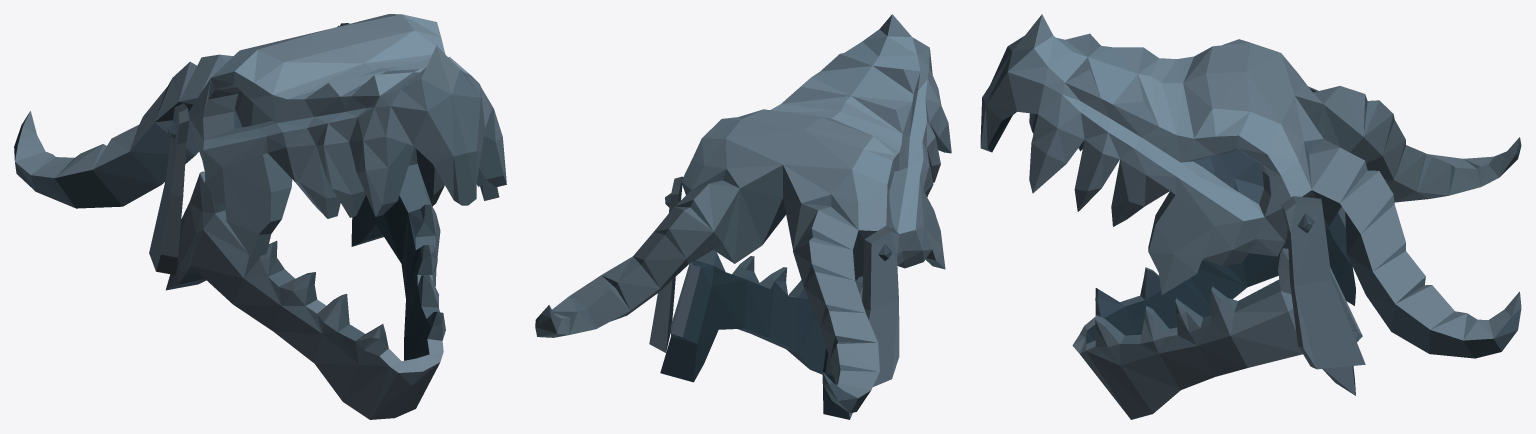
The model's file is largeCrossbowDragonTip.glb.
The picture shows the model from 3 angles, left to right: view 1: azimuth 30°, elevation 25°; view 2: azimuth 150°, elevation 25°; view 3: azimuth 270°, elevation 25°; orthographic projection. The views are drawn at different scales.
Visible parts, largest first — view 1: largeCrossbowDragonTip; view 2: largeCrossbowDragonTip; view 3: largeCrossbowDragonTip.
Part boxes in pixels (bbox=[...]): largeCrossbowDragonTip: bbox=[14, 14, 506, 419]; largeCrossbowDragonTip: bbox=[535, 14, 951, 419]; largeCrossbowDragonTip: bbox=[980, 14, 1521, 419].
Size of the model in its own units: 0.3985 by 0.4044 by 0.5004.
